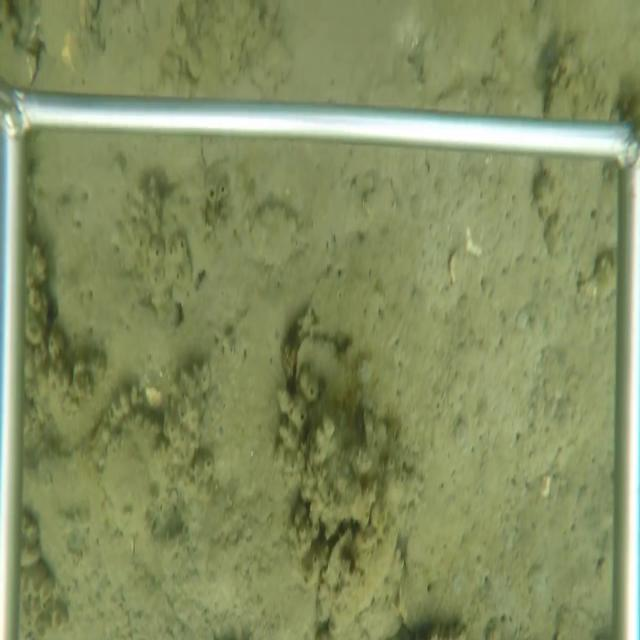Oyster-Indeterminate: (314, 524, 399, 632), (240, 200, 304, 268)
